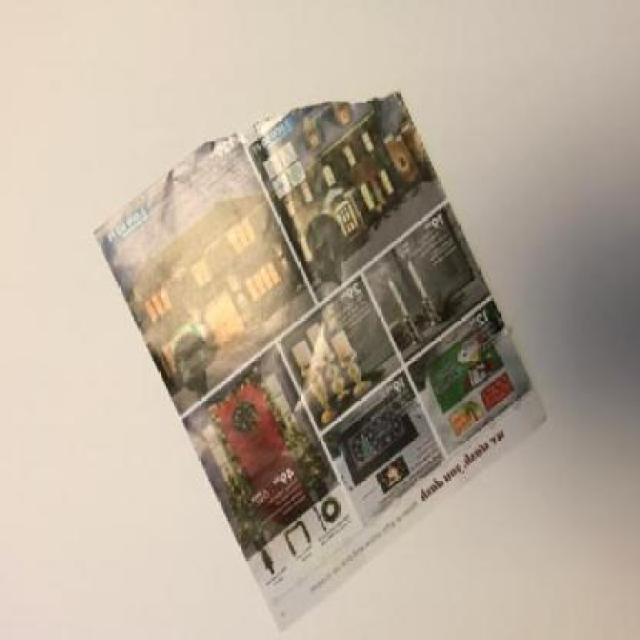PAPER: (91, 93, 547, 635)
